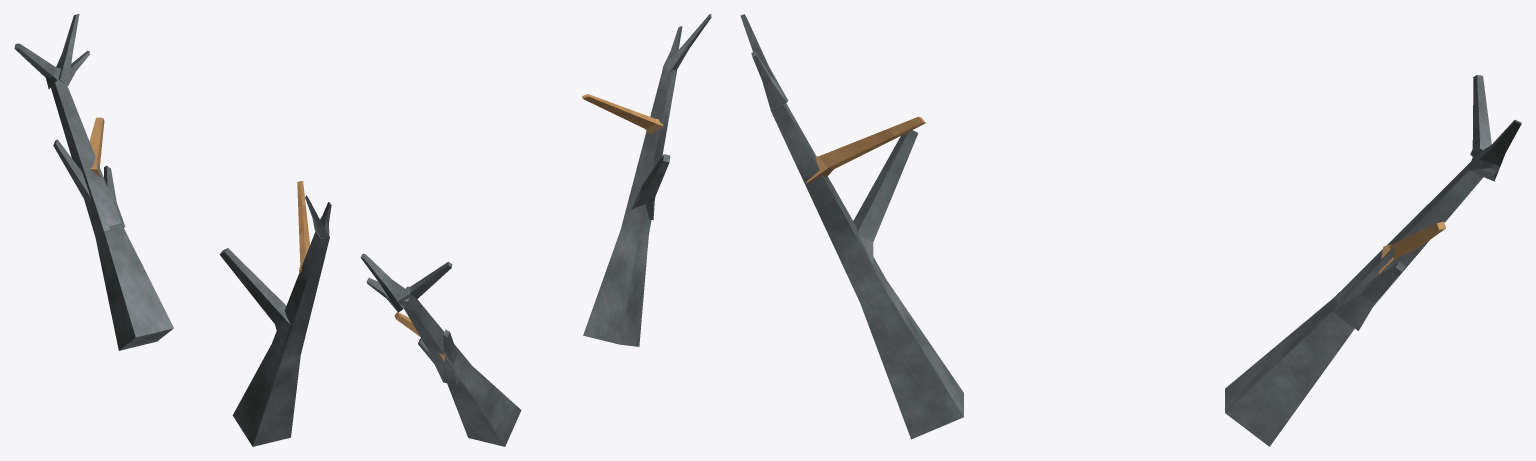
The model's file is Antlers.fbx.
The picture shows the model from 3 angles, left to right: view 1: azimuth 30°, elevation 25°; view 2: azimuth 150°, elevation 25°; view 3: azimuth 270°, elevation 25°; orthographic projection. The views are drawn at different scales.
Parts seen in each view (by area): view 1: mergedBlocks; view 2: mergedBlocks; view 3: mergedBlocks.
Part boxes in pixels (bbox=[...]): mergedBlocks: bbox=[14, 14, 331, 446]; mergedBlocks: bbox=[360, 14, 711, 446]; mergedBlocks: bbox=[740, 14, 1521, 446].
Bounding box in the file's own units: 3.55 × 11.42 × 20.17.
